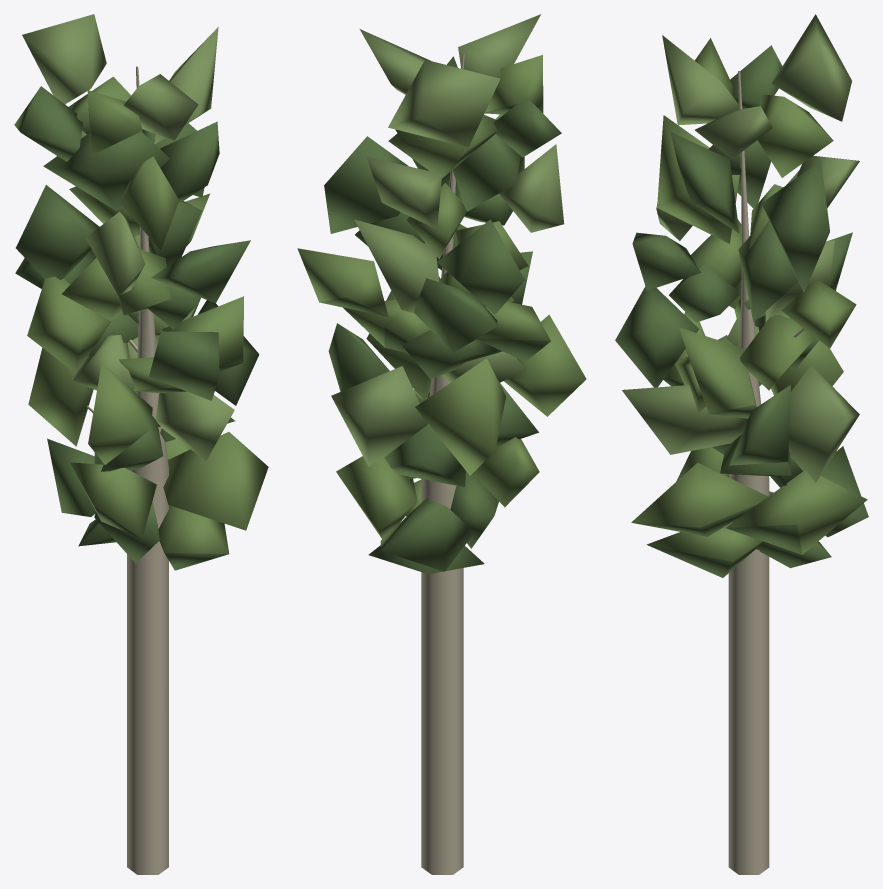
The model's file is birch-a-low.glb.
3 views of the same model, side by side, from view 1: azimuth 30°, elevation 25°; view 2: azimuth 150°, elevation 25°; view 3: azimuth 270°, elevation 25° (orthographic). The views are drawn at different scales.
Size of the model in its own units: 2.86 by 9.66 by 2.74.
